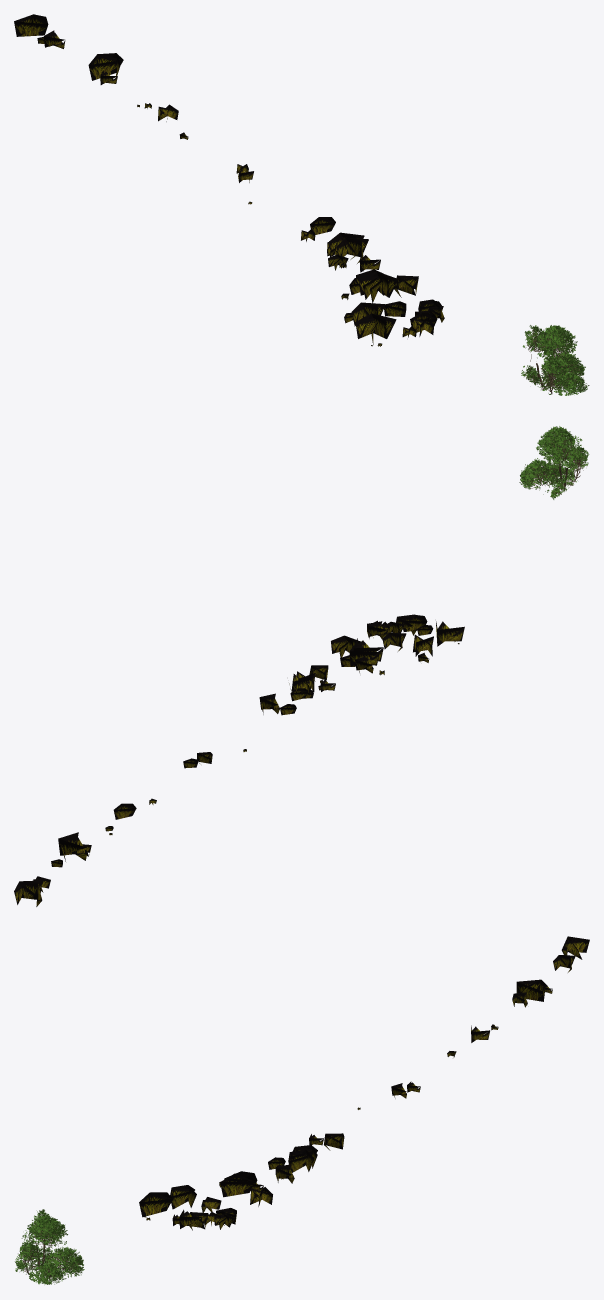
3 views of the same model, one above another, from view 1: azimuth 30°, elevation 25°; view 2: azimuth 150°, elevation 25°; view 3: azimuth 330°, elevation 25° (orthographic). The views are drawn at different scales.
Parts seen in each view (by area): view 1: Low Poly Stylized 2D Grass.1504, oak 01.001_trunk_Mat.001_0.337, Low Poly Stylized 2D Grass.1545; view 2: Low Poly Stylized 2D Grass.1504, oak 01.001_trunk_Mat.001_0.337, Low Poly Stylized 2D Grass.1545; view 3: Low Poly Stylized 2D Grass.1504, oak 01.001_trunk_Mat.001_0.337, Low Poly Stylized 2D Grass.1545.
Boxes of the visible parts, x1,y1,x2,y2 form: Low Poly Stylized 2D Grass.1504: (237, 168, 444, 346); oak 01.001_trunk_Mat.001_0.337: (521, 325, 589, 395); Low Poly Stylized 2D Grass.1545: (14, 14, 248, 173); Low Poly Stylized 2D Grass.1504: (197, 614, 464, 763); oak 01.001_trunk_Mat.001_0.337: (519, 426, 589, 499); Low Poly Stylized 2D Grass.1545: (14, 758, 197, 906); Low Poly Stylized 2D Grass.1504: (139, 1083, 406, 1230); oak 01.001_trunk_Mat.001_0.337: (14, 1209, 84, 1284); Low Poly Stylized 2D Grass.1545: (407, 936, 589, 1092).
Size of the model in its own units: 6.49 by 7.43 by 65.76.
3 materials, 2 textured.
